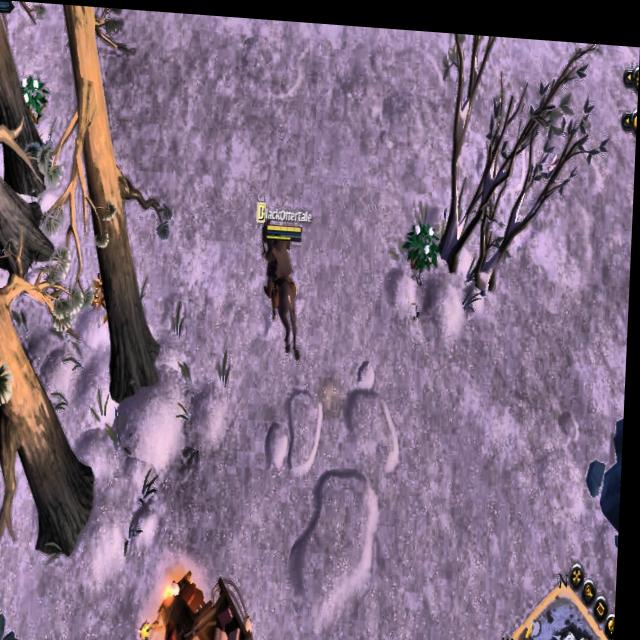sandstone: (0, 608, 33, 640)
